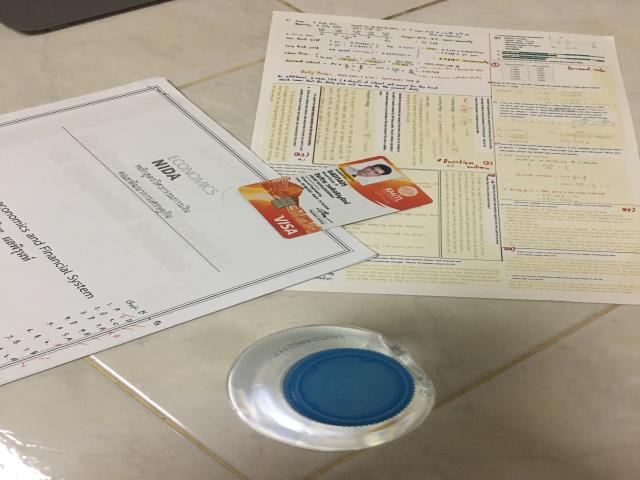bottle: (228, 325, 435, 451)
paper: (226, 11, 638, 304), (0, 78, 375, 383)
